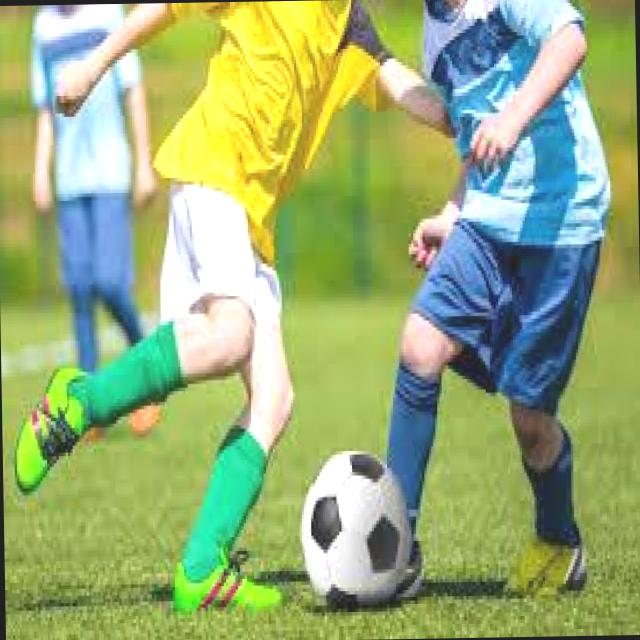Soccer Ball: (300, 446, 410, 609)
